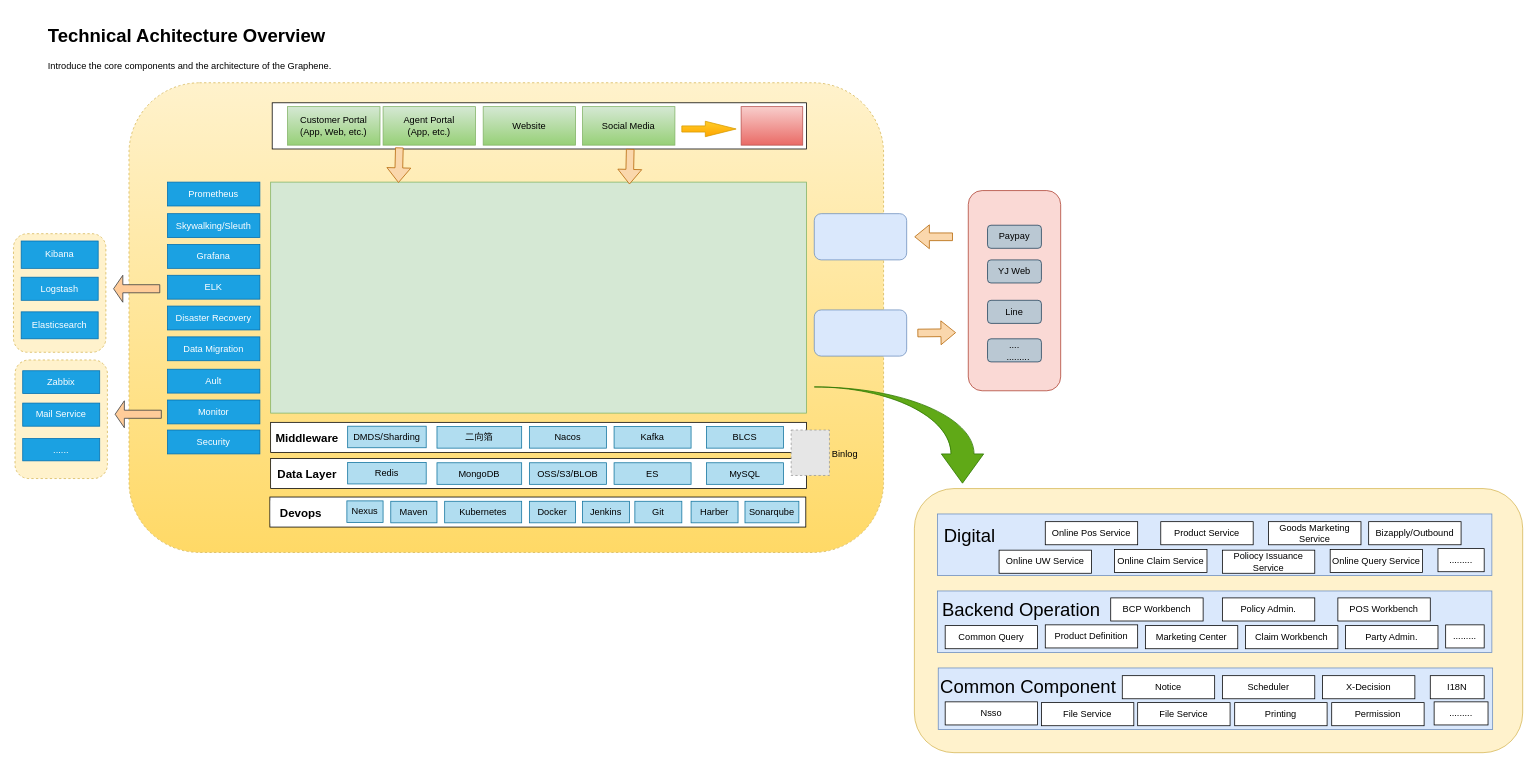
Some shapes in this 1536 by 766 pixel diagram are drawn without their labels. Grey dashed boxes stand in for pictures. The shapes that lost their labels are listed below. From the top down, each one's centre as x and y in pixels, then its label:
At point 771,125: "Online Pay".
At point 860,236: "Gateway BizApply".
At point 538,297: "Application".
At point 860,332: "Integration Outbound".
